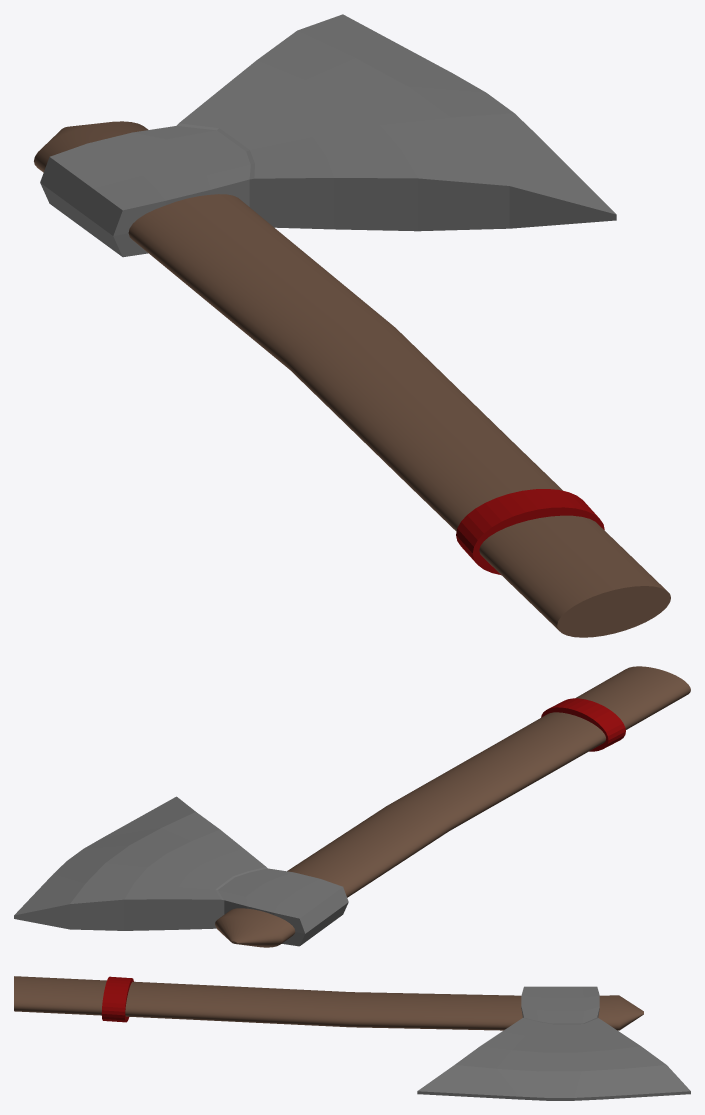
The model's file is machado.glb.
The picture shows the model from 3 angles, top to bottom: view 1: azimuth 30°, elevation 25°; view 2: azimuth 150°, elevation 25°; view 3: azimuth 270°, elevation 25°; orthographic projection. The views are drawn at different scales.
Visible parts, largest first — view 1: lamina, cabo, Cylinder; view 2: lamina, cabo, Cylinder; view 3: cabo, lamina, Cylinder.
Part boxes in pixels (x1,y1,x2,y2): lamina: (40,14,616,257); cabo: (34,121,670,637); Cylinder: (456,489,604,574); lamina: (14,796,348,946); cabo: (215,666,690,947); Cylinder: (541,698,625,751); cabo: (14,976,643,1030); lamina: (417,986,690,1100); Cylinder: (101,976,133,1022).
Size of the model in its own units: 7.73 by 0.9816 by 18.49.
